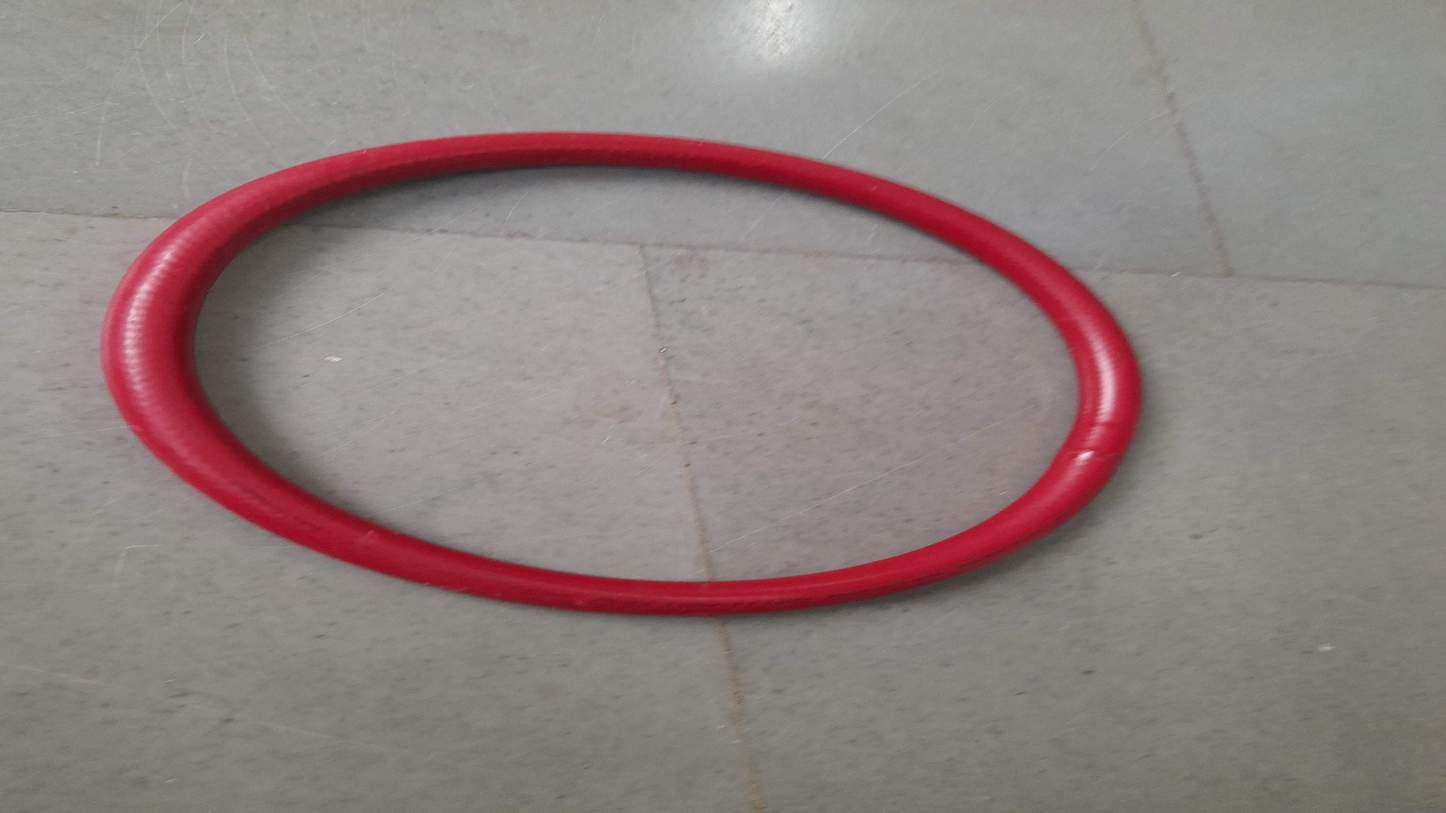Red ring: (100, 135, 1141, 614)
